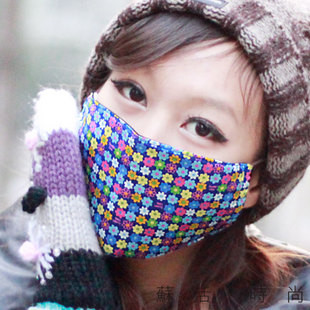face_mask: (86, 33, 254, 241)
